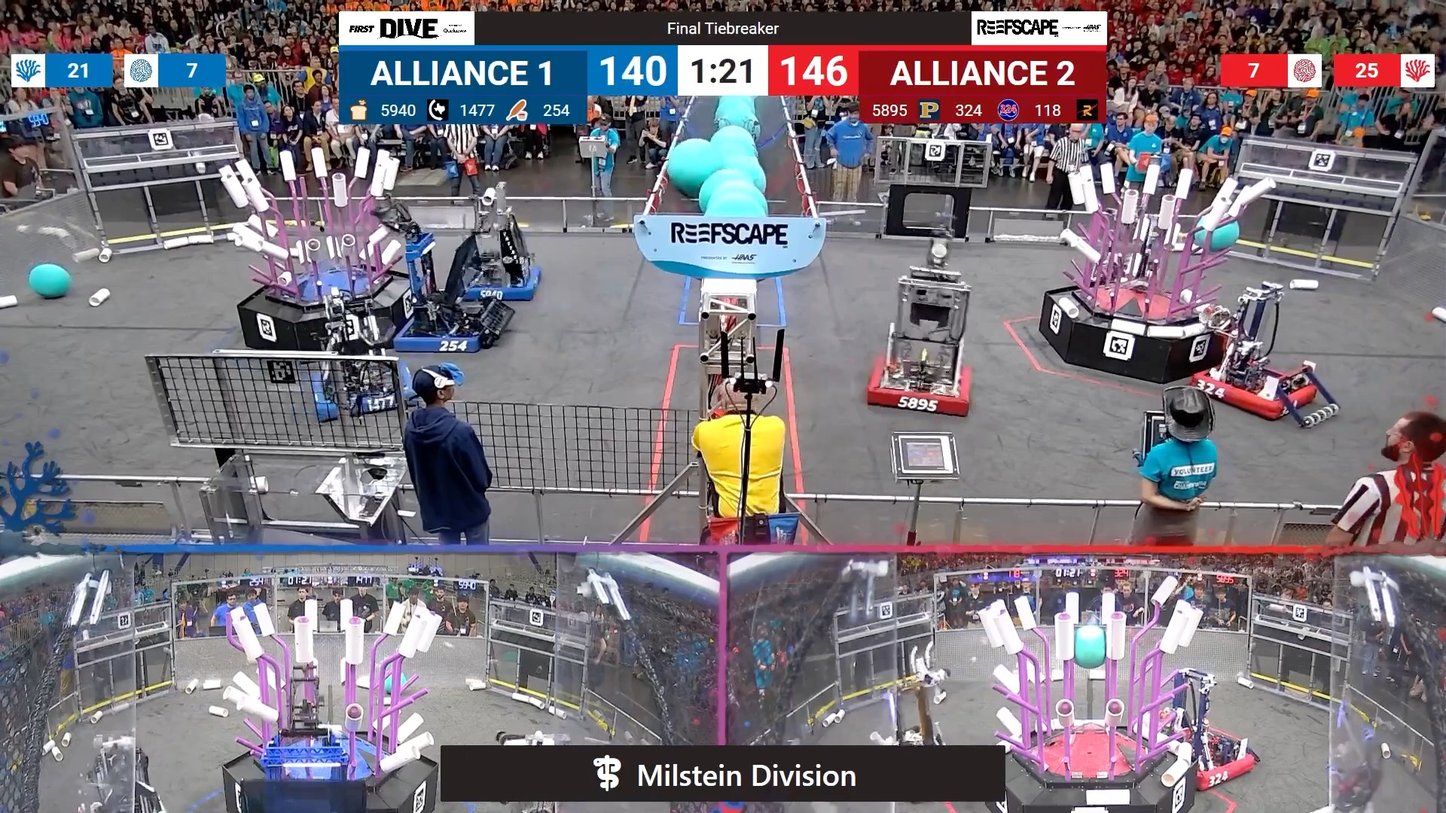bumpers: (1185, 362, 1326, 428), (855, 353, 979, 423), (382, 297, 507, 358), (309, 359, 416, 422), (446, 256, 544, 303), (1180, 740, 1263, 792)
